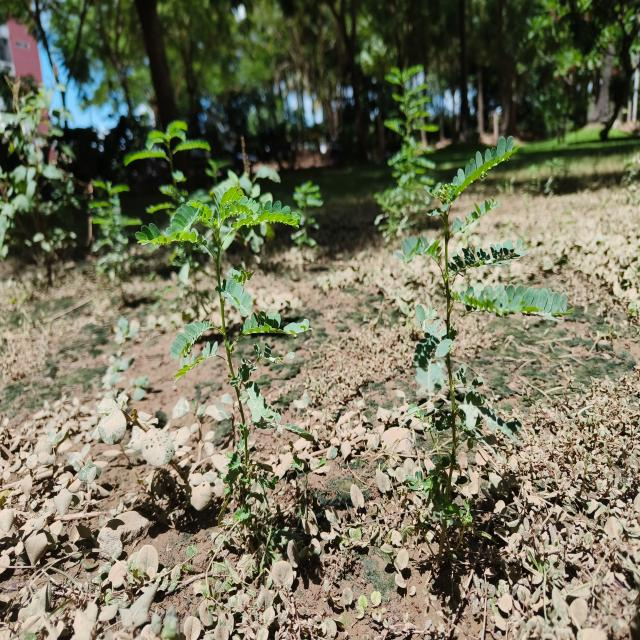weed: (400, 144, 572, 525), (134, 167, 305, 492)
